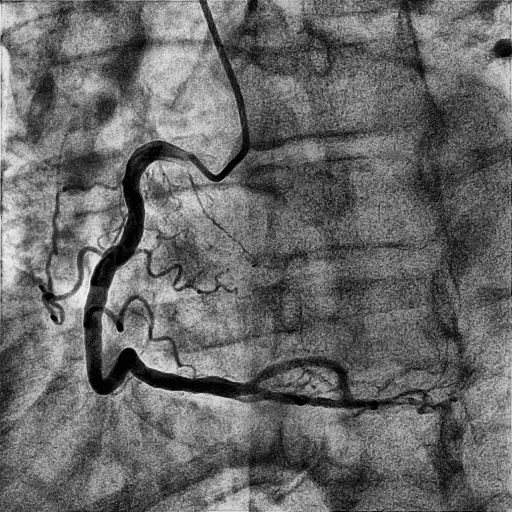pborca: (253, 356, 354, 399)
pda: (258, 388, 442, 410)
rca: (83, 140, 259, 402)
